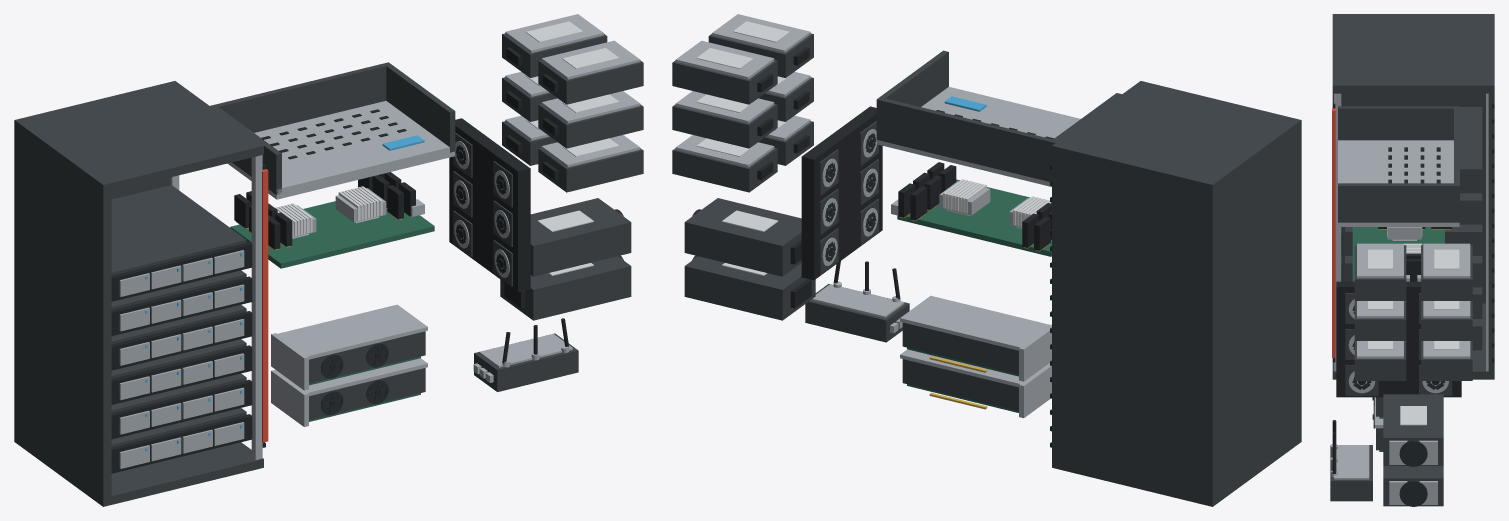
Rendered from cocometric-before-rear-antennas.glb.
The picture shows the model from 3 angles, left to right: view 1: azimuth 30°, elevation 25°; view 2: azimuth 150°, elevation 25°; view 3: azimuth 270°, elevation 25°; orthographic projection. The views are drawn at different scales.
Parts seen in each view (by area): view 1: Rack_Left_Side, Rack_Top, Exploded_Chassis_Base, Installed_Server_5, Fan_Wall, Exploded_Chassis_Back, Rack_Bottom, PSU_0, Motherboard, PSU_1, GPU_1_Backplate, Rack_Right_Rail_Front (+32 smaller); view 2: Rack_Back, Rack_Left_Side, Rack_Top, Exploded_Chassis_Back, Fan_Wall, PSU_0, PSU_1, Exploded_Chassis_Base, GPU_1_Backplate, Motherboard, GPU_1_Body, GPU_0_Body (+17 smaller); view 3: Rack_Top, Exploded_Chassis_Base, Exploded_Chassis_Right, Exploded_Chassis_Left, Fan_Wall, Rack_Left_Side, PSU_0, Installed_Server_5, Rack_Back, Drive_0_1, Drive_0_0, PSU_1 (+41 smaller).
Boxes of the visible parts, bbox=[...] form: Rack_Left_Side: bbox=[14, 118, 111, 506]; Rack_Top: bbox=[14, 81, 263, 193]; Exploded_Chassis_Base: bbox=[227, 101, 454, 199]; Installed_Server_5: bbox=[111, 185, 246, 275]; Fan_Wall: bbox=[449, 118, 530, 291]; Exploded_Chassis_Back: bbox=[210, 62, 386, 132]; Rack_Bottom: bbox=[14, 433, 263, 506]; PSU_0: bbox=[530, 198, 631, 276]; Motherboard: bbox=[230, 201, 434, 268]; PSU_1: bbox=[500, 256, 631, 320]; GPU_1_Backplate: bbox=[277, 304, 427, 359]; Rack_Right_Rail_Front: bbox=[251, 155, 262, 460]; Rack_Back: bbox=[1052, 153, 1215, 499]; Rack_Left_Side: bbox=[1204, 118, 1301, 506]; Rack_Top: bbox=[1052, 81, 1301, 192]; Exploded_Chassis_Back: bbox=[877, 97, 1057, 181]; Fan_Wall: bbox=[801, 106, 882, 280]; PSU_0: bbox=[684, 198, 801, 276]; PSU_1: bbox=[684, 256, 815, 320]; Exploded_Chassis_Base: bbox=[877, 87, 1080, 186]; GPU_1_Backplate: bbox=[900, 295, 1050, 350]; Motherboard: bbox=[897, 179, 1051, 256]; GPU_1_Body: bbox=[902, 322, 1018, 374]; GPU_0_Body: bbox=[902, 359, 1018, 411]; Rack_Top: bbox=[1332, 14, 1494, 93]; Exploded_Chassis_Base: bbox=[1338, 140, 1459, 226]; Exploded_Chassis_Right: bbox=[1338, 183, 1459, 222]; Exploded_Chassis_Left: bbox=[1338, 106, 1459, 140]; Fan_Wall: bbox=[1336, 281, 1461, 397]; Rack_Left_Side: bbox=[1332, 14, 1494, 303]; PSU_0: bbox=[1383, 394, 1443, 465]; Installed_Server_5: bbox=[1460, 107, 1482, 193]; Rack_Back: bbox=[1488, 92, 1494, 372]; Drive_0_1: bbox=[1354, 245, 1406, 300]; Drive_0_0: bbox=[1421, 245, 1472, 300]; PSU_1: bbox=[1383, 466, 1443, 506].
Bounding box in the file's own units: 8.02 × 4.4 × 2.23.
